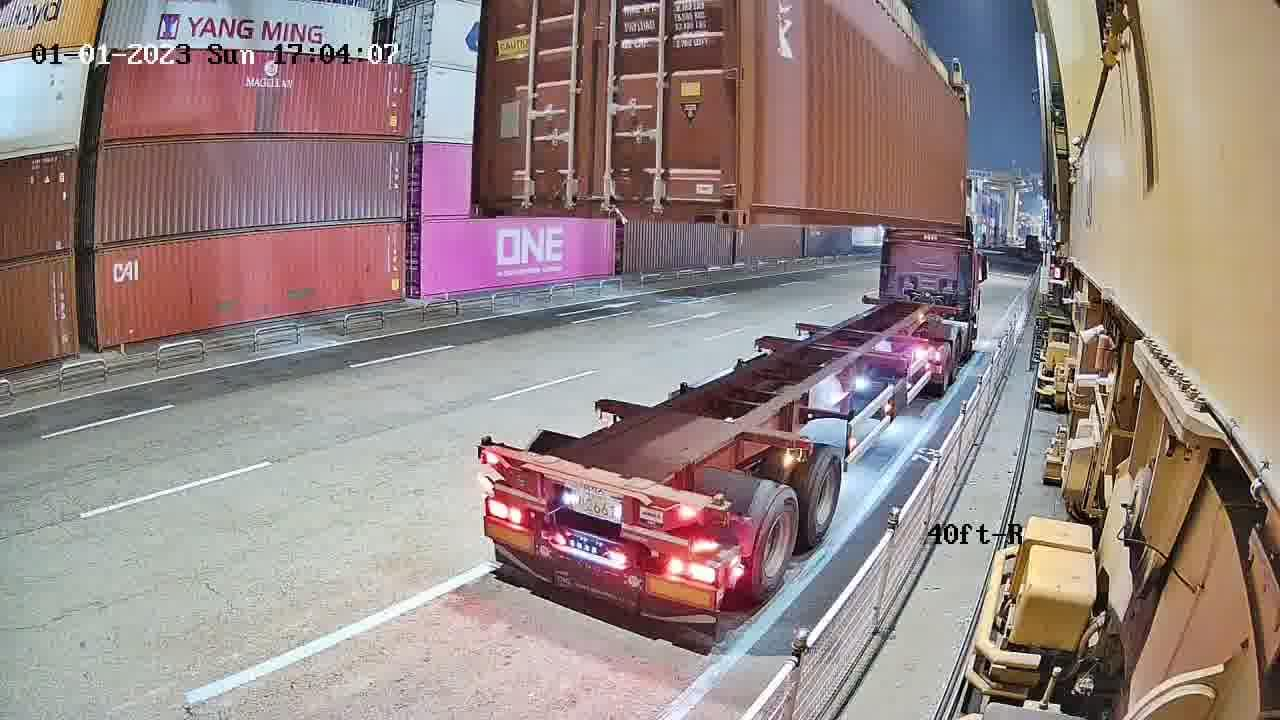Chassis: (476, 449, 725, 532)
Cone: (708, 490, 727, 523), (474, 431, 490, 466)
Hole_L: (735, 180, 775, 228), (466, 182, 501, 219)
Hole_R: (700, 182, 737, 230)
Tire: (753, 493, 801, 592), (807, 453, 844, 540)
